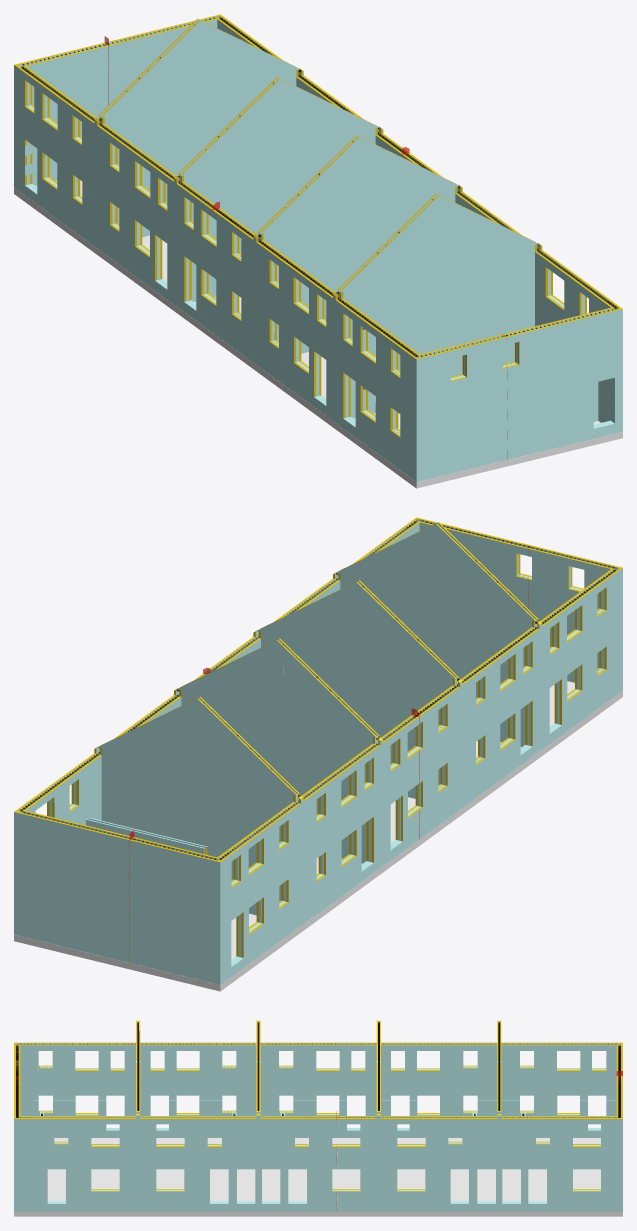
File: sample.glb
3 views of the same model, one above another, from view 1: azimuth 30°, elevation 25°; view 2: azimuth 150°, elevation 25°; view 3: azimuth 270°, elevation 25° (orthographic). The views are drawn at different scales.
Visible parts, largest first — view 1: Geom3D_, 3DGeom-22432; view 2: Geom3D_, 3DGeom-22432; view 3: Geom3D (×136), Geom3D_, 3DGeom-22430, 3DGeom-22432.
Part boxes in pixels (box(x1,y1,x2,y2)): Geom3D_: box(14, 180, 622, 488); 3DGeom-22432: box(31, 22, 606, 353); Geom3D_: box(14, 681, 622, 991); 3DGeom-22432: box(25, 522, 610, 857); Geom3D (×136): box(26, 1047, 610, 1211); Geom3D_: box(14, 1138, 622, 1216); 3DGeom-22430: box(137, 1021, 500, 1109); 3DGeom-22432: box(16, 1043, 620, 1117).
Bounding box in the file's own units: 9.92 × 9.59 × 33.5.
